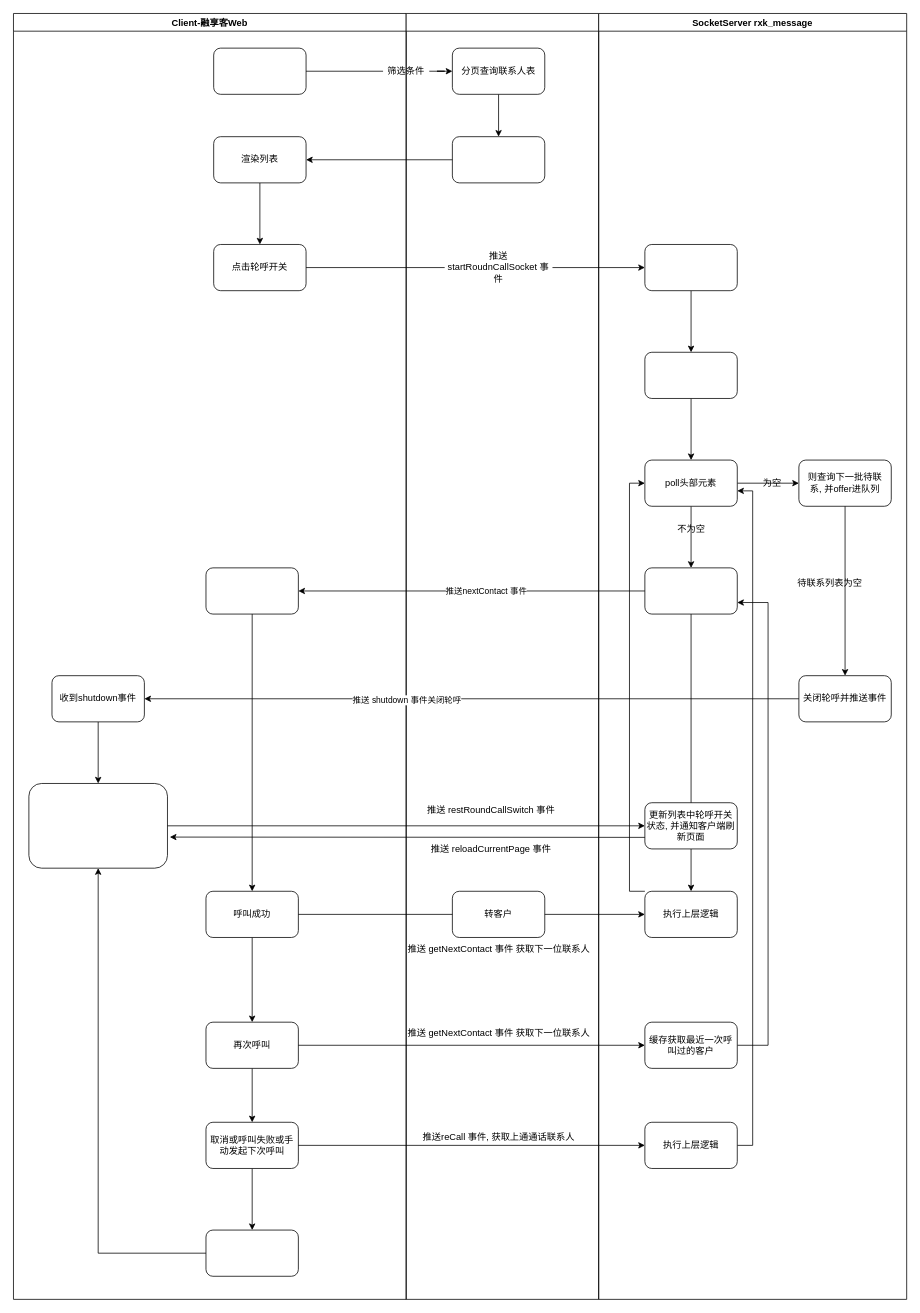
The diagram is 920 pixels wide and 1313 high, and some of its shapes have lost their labels. The box of each missing label's shape, as (x1, y1, x2, y2) in pixels:
HttpServer rxk_saas: (405, 13, 599, 1299)
分批缓存轮呼计划(500),写入队列: (644, 352, 737, 398)
即为下一个联系人,并缓存到redis,每次set覆盖前值: (644, 567, 737, 614)
发起关闭轮呼开关操作, 收到 reloadCurrentPage 事件后刷新页面: (28, 783, 167, 868)
封装数据: (452, 136, 545, 183)
待联系列表(企业/普通): (213, 47, 306, 94)
挂断并结束轮呼: (205, 1229, 298, 1276)
收到下一个联系拨叫信息开始拨叫: (205, 567, 298, 614)
收到开启轮呼: (644, 244, 737, 291)
